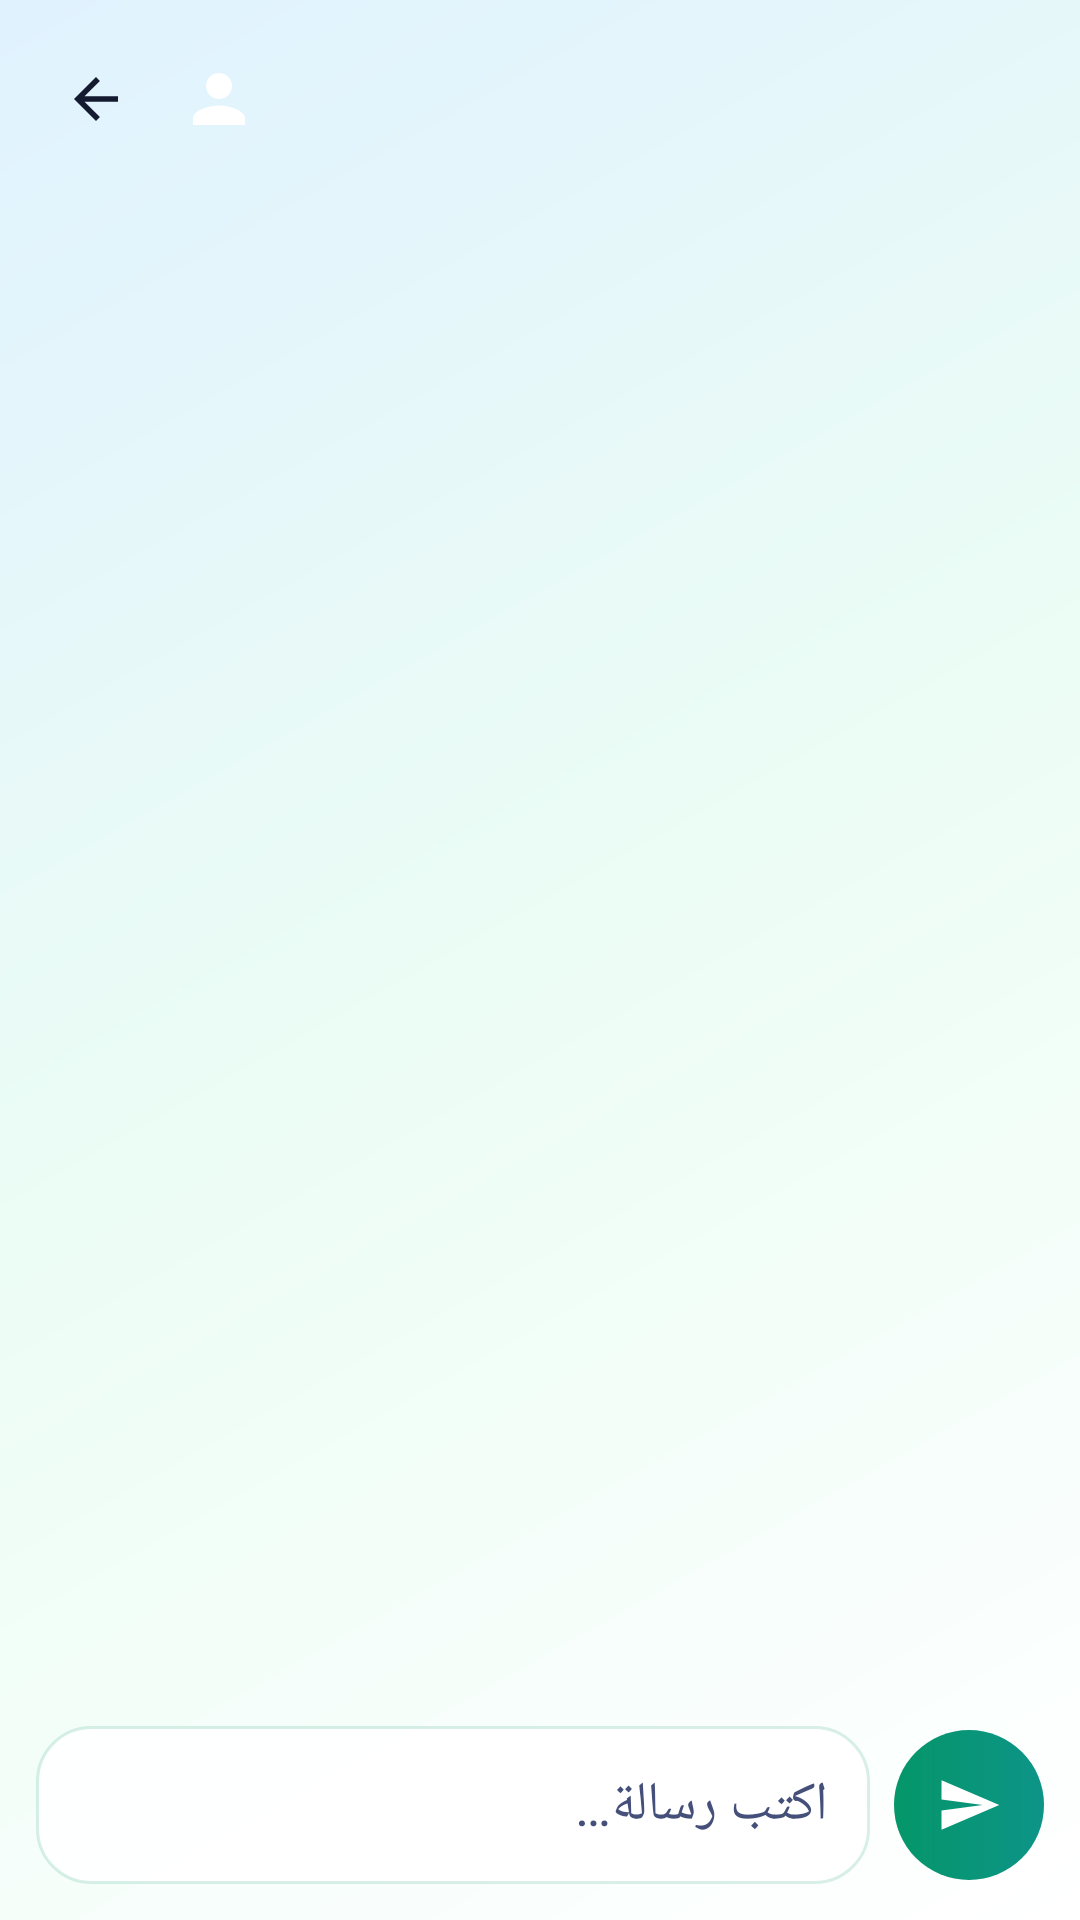

Icon bounding boxes for this 1080 x 1920 phone screenshot, format bbox=(x1, y1, x2, y2):
back: bbox=(74, 77, 118, 121)
send: bbox=(894, 1730, 1044, 1880)
user: bbox=(193, 73, 245, 125)
